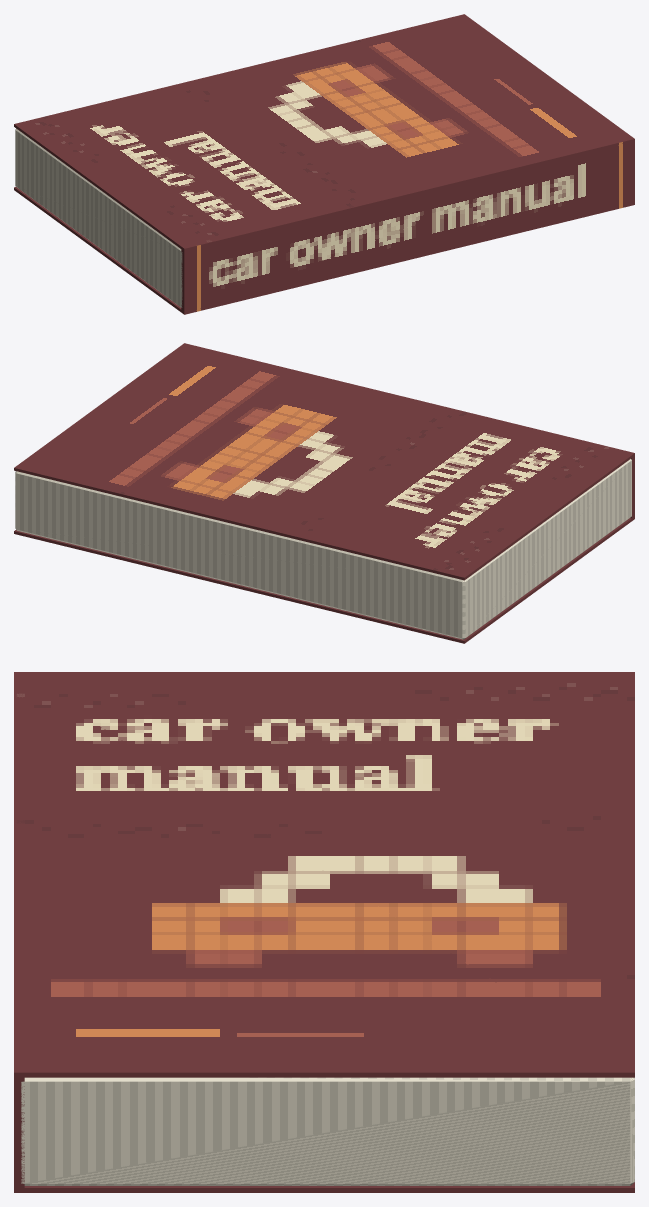
File: manual_mechanics_car_owner.glb
The picture shows the model from 3 angles, top to bottom: view 1: azimuth 30°, elevation 25°; view 2: azimuth 150°, elevation 25°; view 3: azimuth 270°, elevation 25°; orthographic projection. The views are drawn at different scales.
Visible parts, largest first — view 1: block_front, block_spine, block_pages, block_back; view 2: block_front, block_pages, block_back, block_spine; view 3: block_front, block_pages, block_spine, block_back.
Part boxes in pixels (box(x1,y1,x2,y2)): block_front: box(14, 14, 631, 250); block_spine: box(181, 137, 634, 314); block_pages: box(15, 128, 182, 307); block_back: box(14, 187, 183, 313); block_front: box(14, 344, 634, 580); block_pages: box(15, 459, 631, 639); block_back: box(14, 517, 634, 643); block_spine: box(183, 343, 634, 519); block_front: box(16, 672, 634, 1077); block_pages: box(21, 1077, 634, 1185); block_spine: box(14, 672, 24, 1192); block_back: box(16, 1182, 634, 1192).
Size of the model in its own units: 0.2244 by 0.0314 by 0.147.
1 material, 1 textured.
